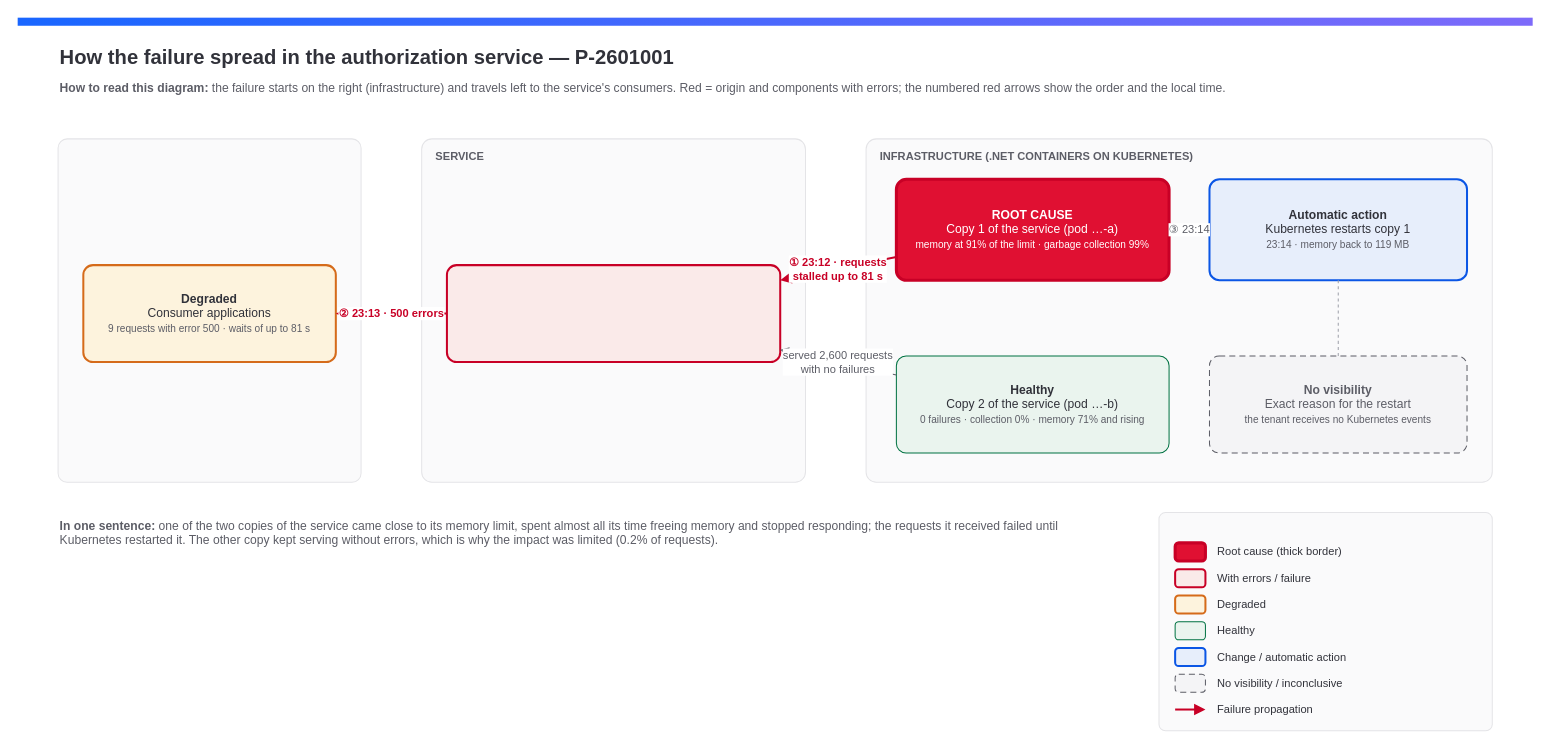
This 1549x748 diagram has some shape labels left out. Each missing label, with the box of its shape:
CONSUMERS: (57, 138, 361, 482)
Legend: (1158, 512, 1492, 731)
With errors Authorization service auth-api · failure peak 9.4% (23:13): (445, 264, 781, 363)
